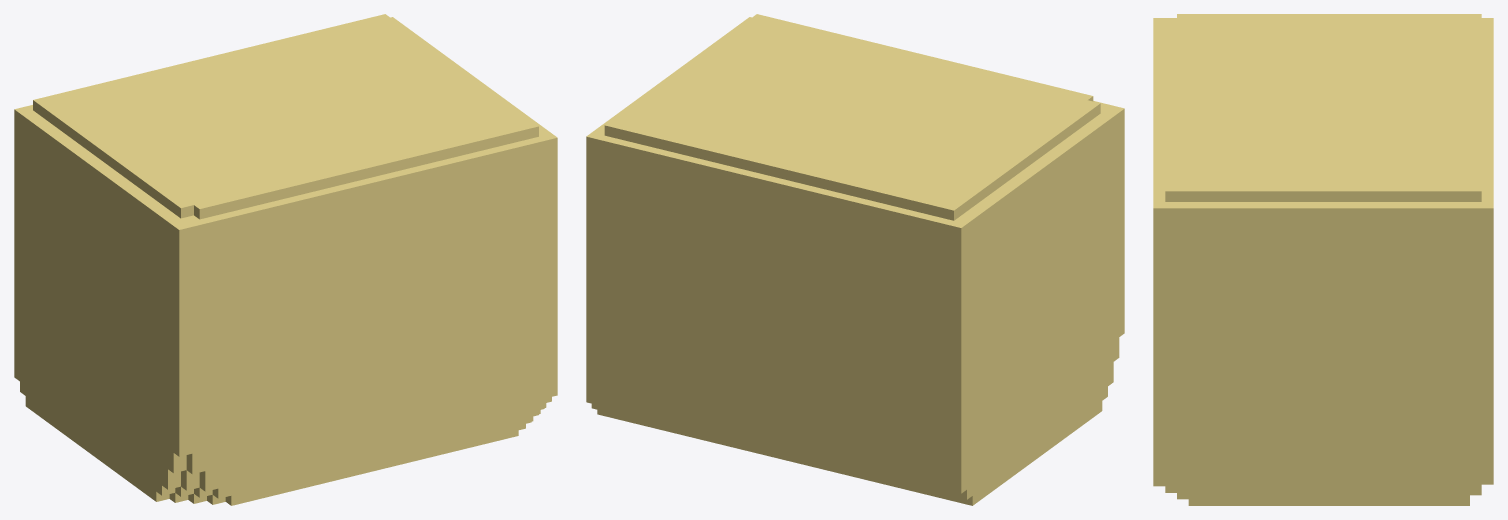
Rendered from BrickV1.fbx.
3 renders of one model, left to right at view 1: azimuth 30°, elevation 25°; view 2: azimuth 150°, elevation 25°; view 3: azimuth 270°, elevation 25°, orthographic. The views are drawn at different scales.
Parts seen in each view (by area): view 1: BrickV1; view 2: BrickV1; view 3: BrickV1.
Part boxes in pixels (x1,y1,x2,y2): BrickV1: (14, 14, 557, 505); BrickV1: (586, 14, 1124, 505); BrickV1: (1153, 14, 1493, 505).
Size of the model in its own units: 0.5336 by 0.4028 by 0.4028.
